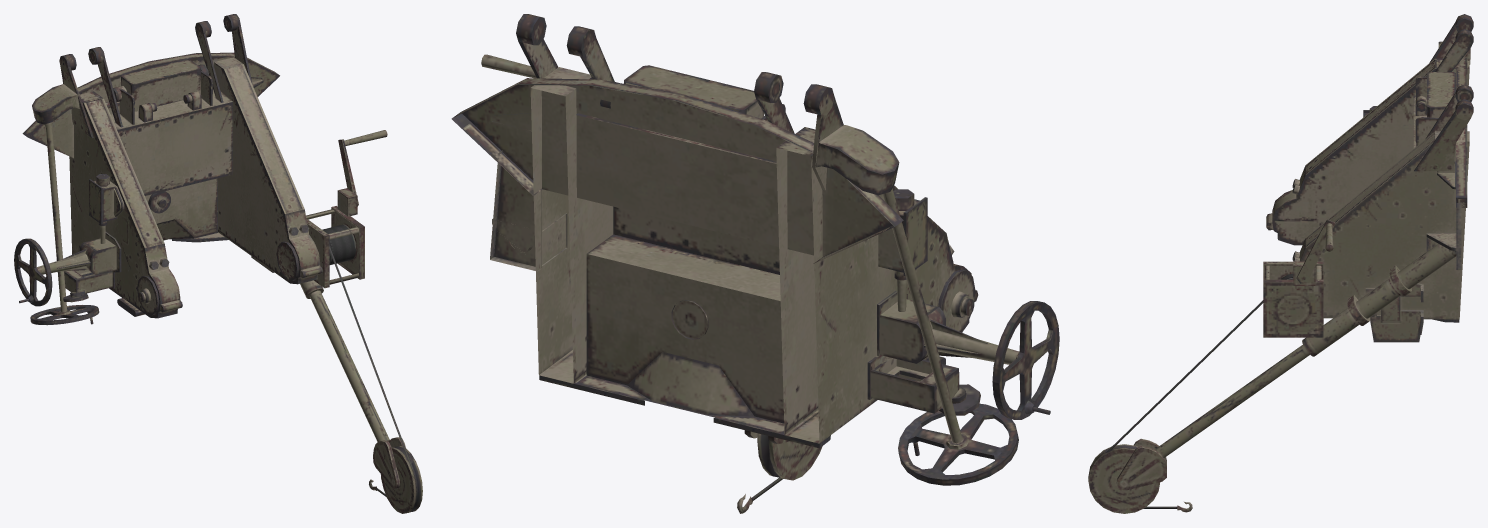
Rendered from Turret_02.glb.
The picture shows the model from 3 angles, left to right: view 1: azimuth 30°, elevation 25°; view 2: azimuth 150°, elevation 25°; view 3: azimuth 270°, elevation 25°; orthographic projection. The views are drawn at different scales.
Visible parts, largest first — view 1: set_0_group_0; view 2: set_0_group_0; view 3: set_0_group_0.
Part boxes in pixels (x1,y1,x2,y2): set_0_group_0: (14, 14, 422, 513); set_0_group_0: (451, 14, 1059, 513); set_0_group_0: (1088, 14, 1473, 513).
Size of the model in its own units: 1.63 by 1.72 by 1.48.
Materials: 1 (1 with a texture image).
